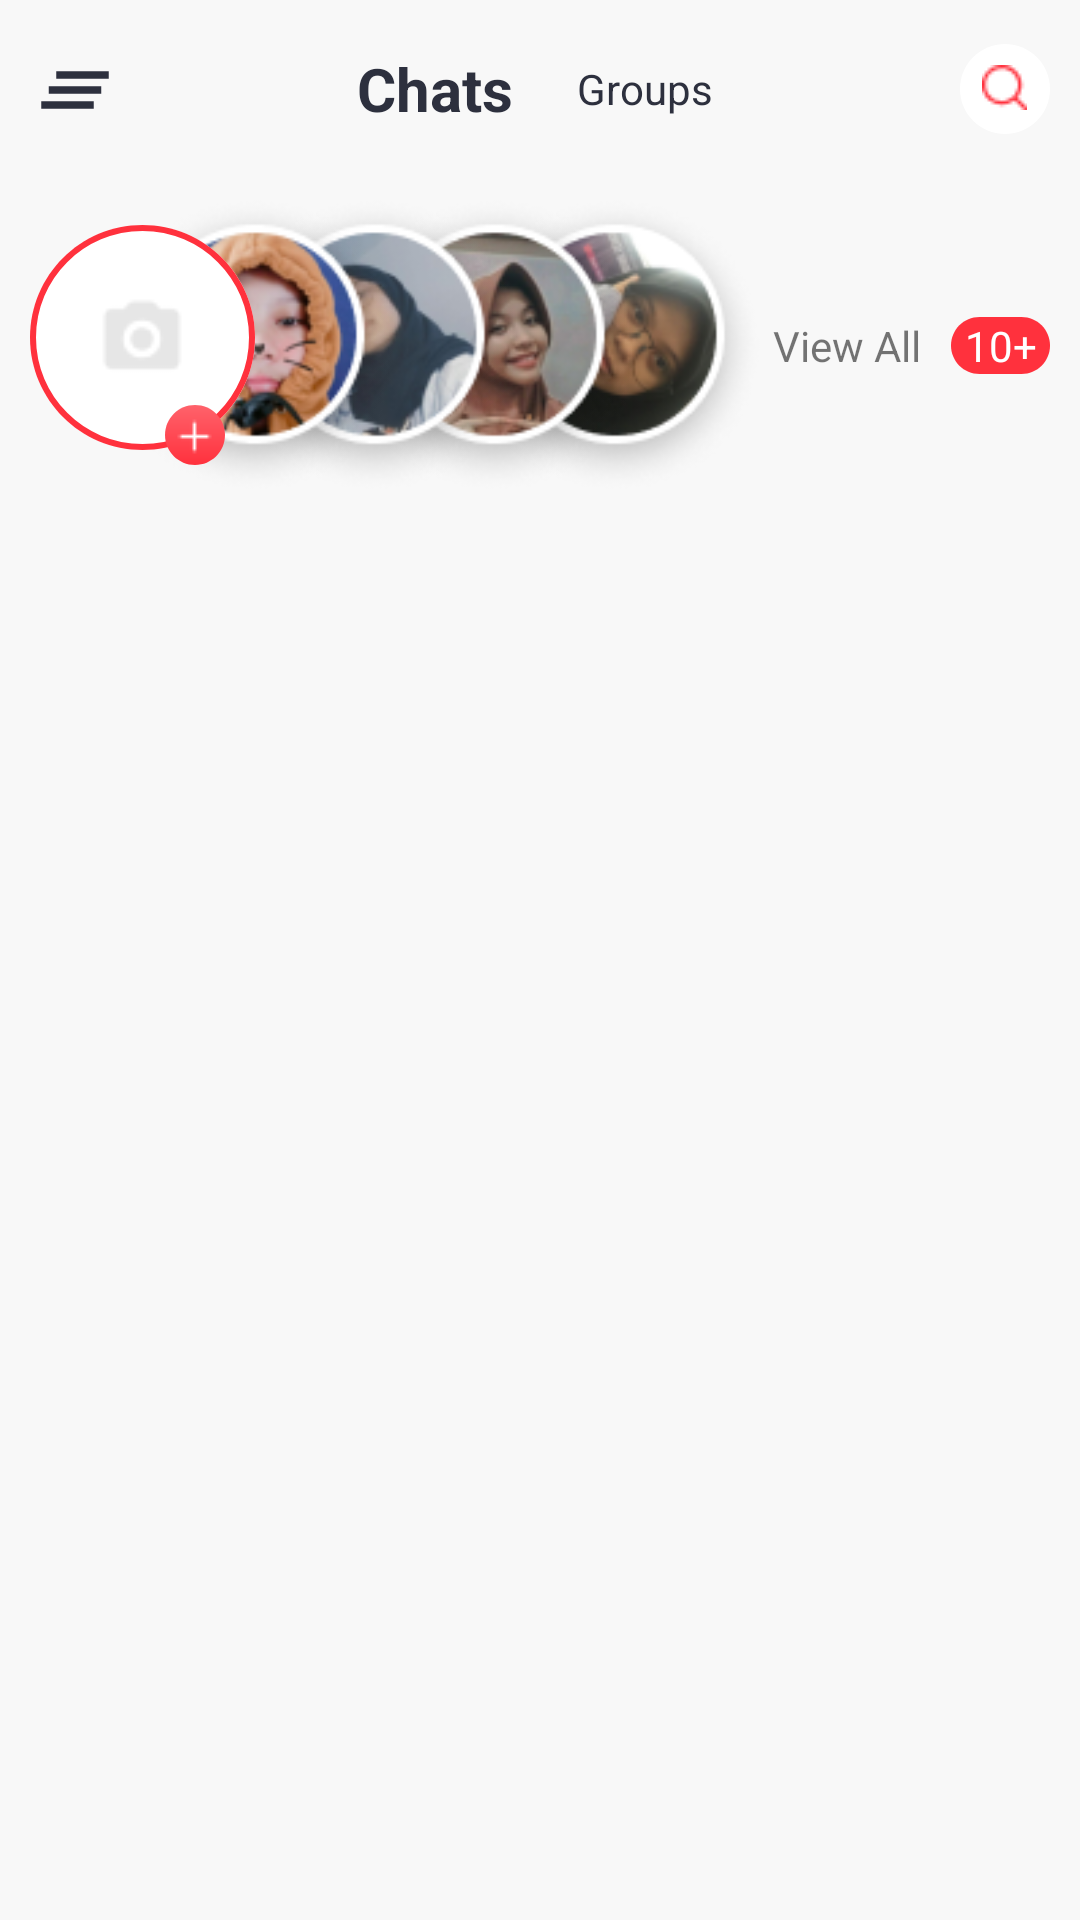

Screen size 1080px×1920px. Icon name, then its box in pixels as (x1,y1,x2,y2):
Menu: (41,71,109,109)
